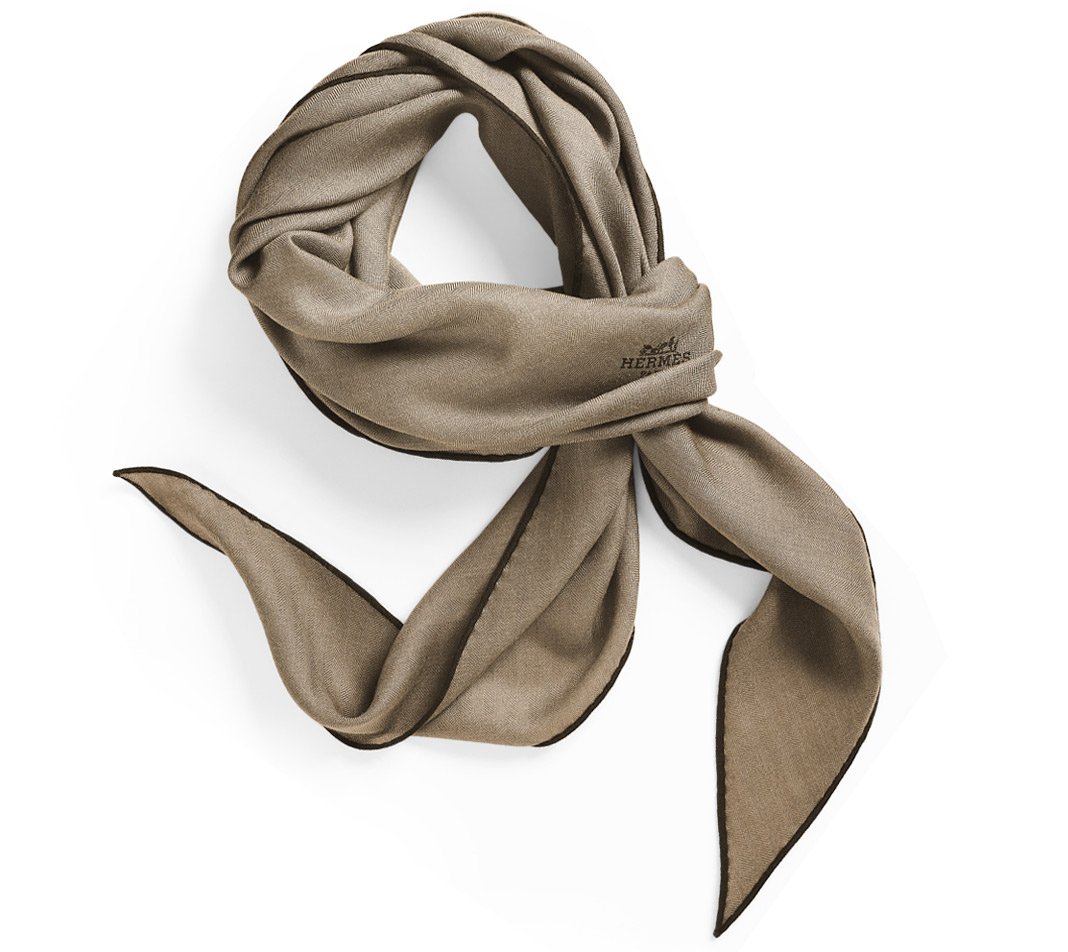flexible: (106, 11, 890, 952)
